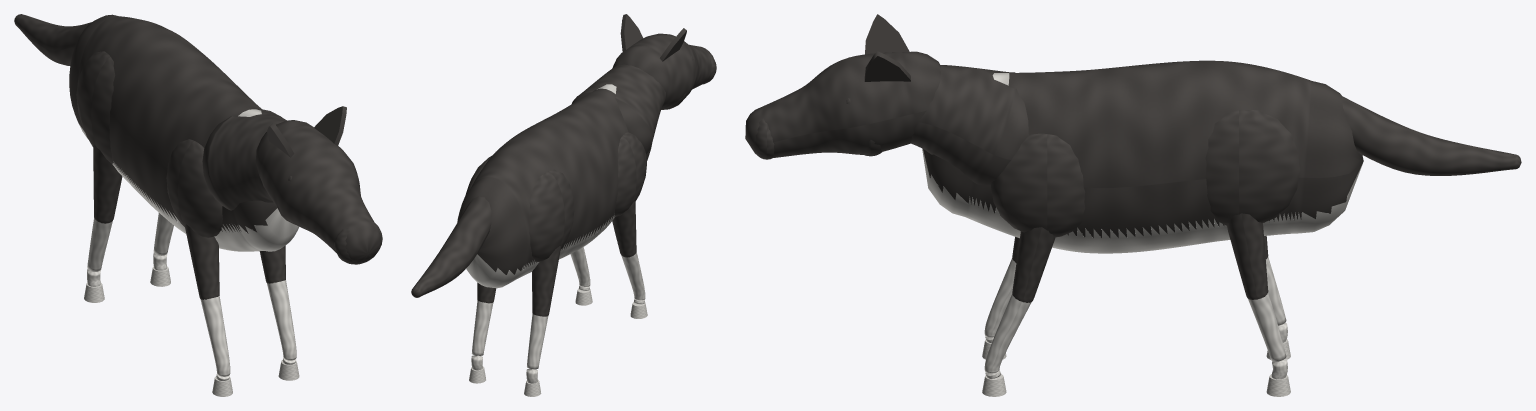
File: farm-and-working-animals-hd-border-collie-0a7b64f2__29204.glb
The picture shows the model from 3 angles, left to right: view 1: azimuth 30°, elevation 25°; view 2: azimuth 150°, elevation 25°; view 3: azimuth 270°, elevation 25°; orthographic projection. The views are drawn at different scales.
Parts seen in each view (by area): view 1: border-collie; view 2: border-collie; view 3: border-collie.
Boxes of the visible parts, left/top/right/bottom form: border-collie: left=14, top=14, right=382, bottom=396; border-collie: left=411, top=14, right=716, bottom=396; border-collie: left=745, top=14, right=1521, bottom=396.
Size of the model in its own units: 0.2268 by 0.6155 by 1.27.
Materials: 2 (2 with a texture image).
